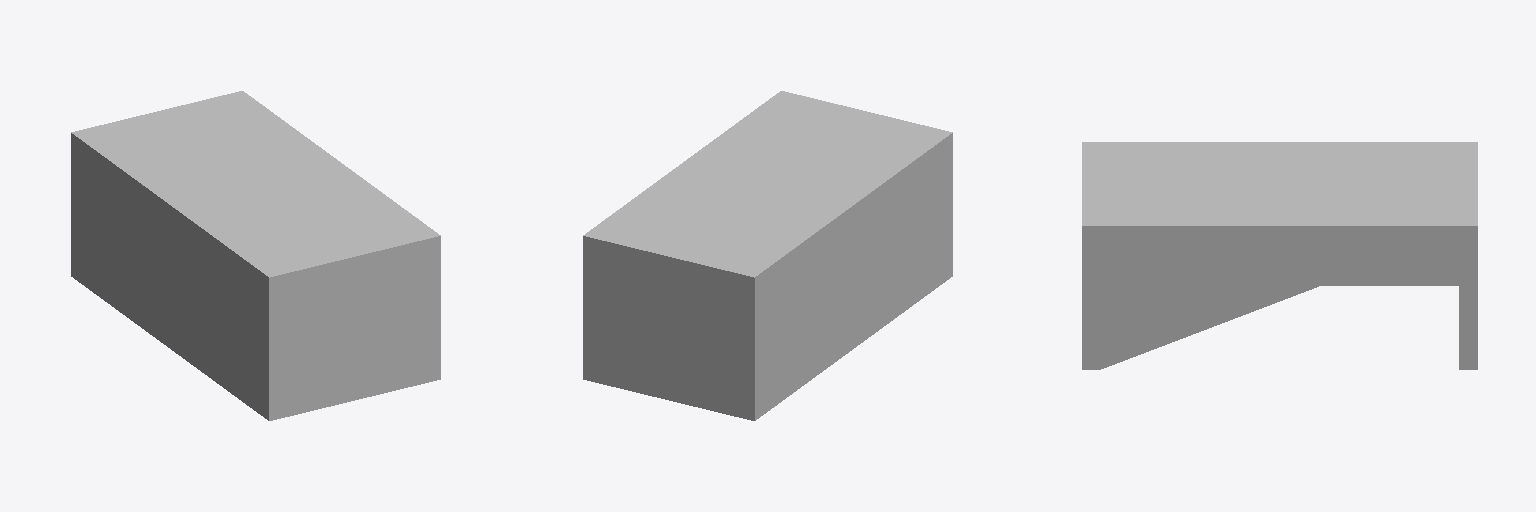
The model's file is table.obj.
3 renders of one model, left to right at view 1: azimuth 30°, elevation 25°; view 2: azimuth 150°, elevation 25°; view 3: azimuth 270°, elevation 25°, orthographic.
Visible parts, largest first — view 1: Mesh1 Model; view 2: Mesh1 Model; view 3: Mesh1 Model.
Boxes of the visible parts, x1=… form: Mesh1 Model: x1=71, y1=91, x2=440, y2=420; Mesh1 Model: x1=583, y1=91, x2=952, y2=420; Mesh1 Model: x1=1082, y1=142, x2=1477, y2=369.
Bounding box in the file's own units: 0.5 × 0.4 × 1.